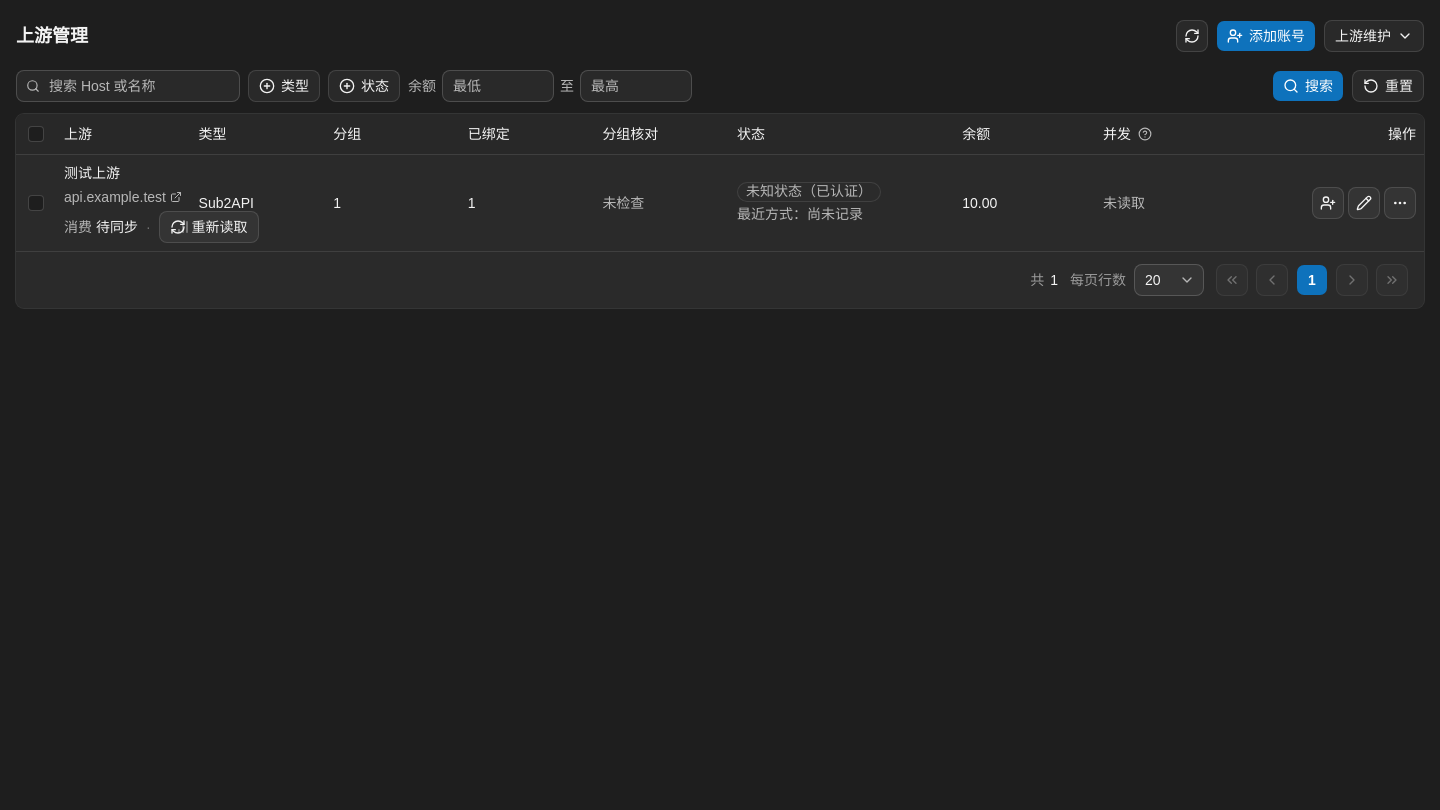
Test: 手动凭据验证等待响应时按 Escape 保留窗口，失败后允许关闭
Expected: the text "测试上游" is shown, [64, 164, 120, 180]
Click the button named "更多操作". click: (1400, 202)
box: [1384, 186, 1416, 218]
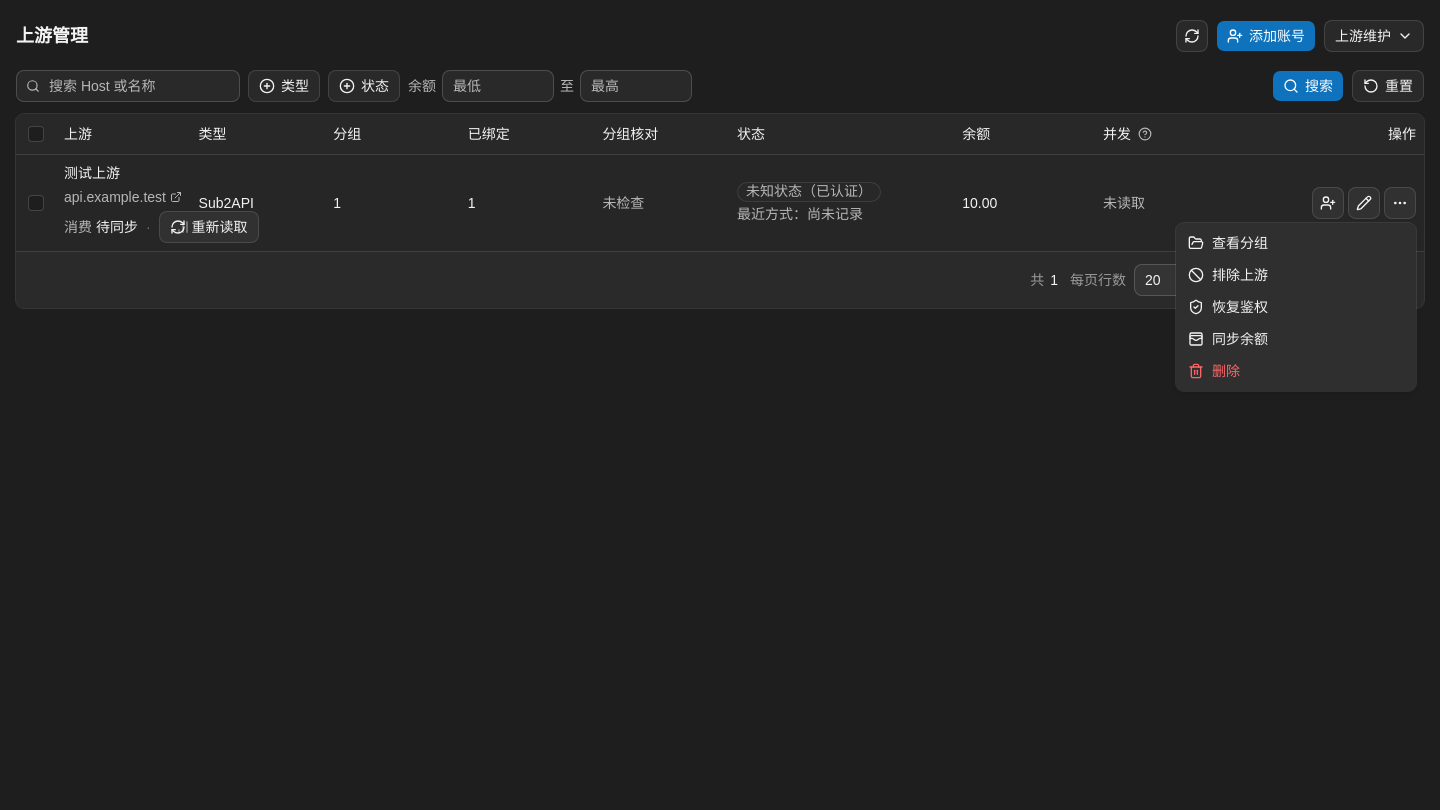
Click the menu item "恢复鉴权". click: (1228, 307)
box: [1188, 299, 1268, 315]
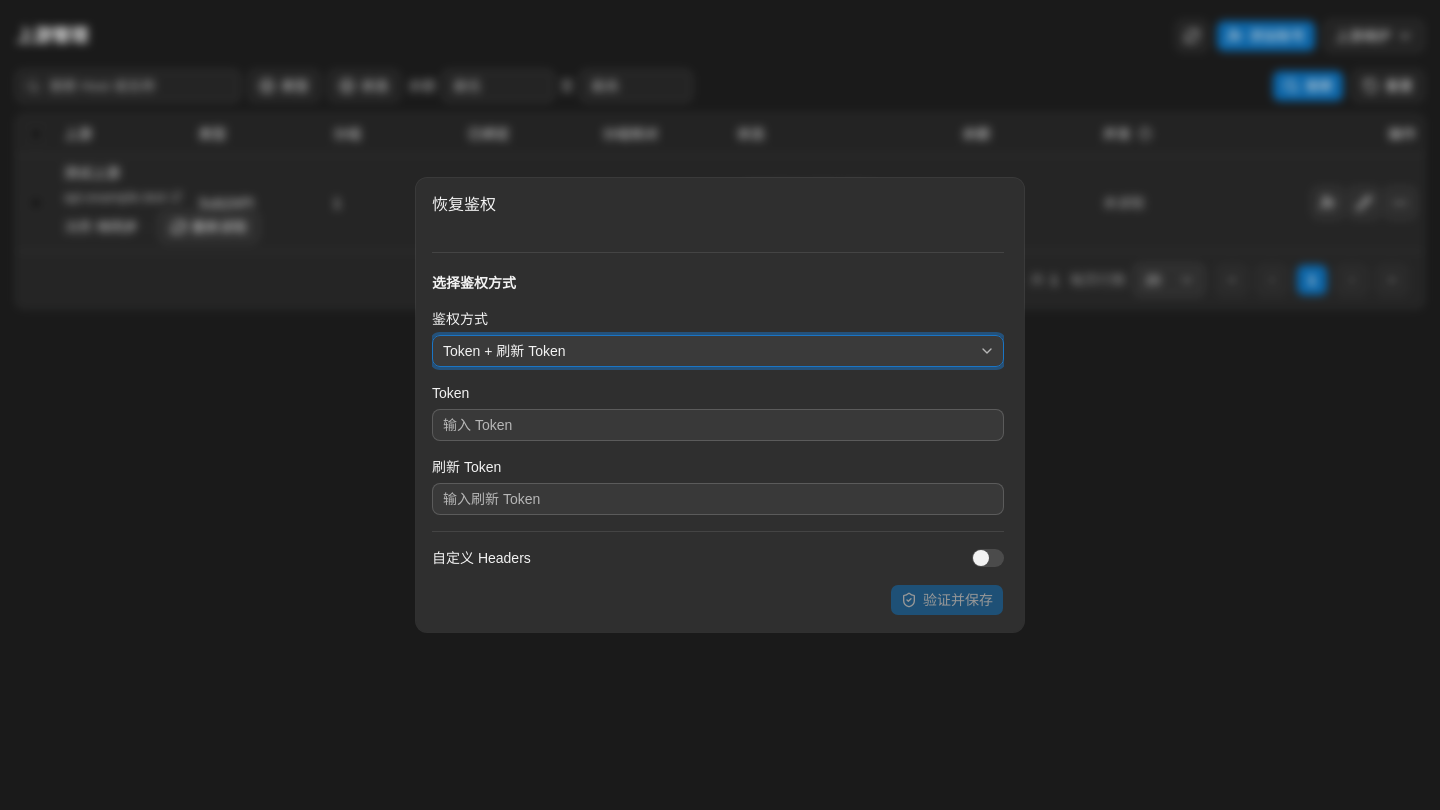
Type "test-token" into the password field labelled "Token". click: (718, 425)
box: [432, 409, 1004, 441]
Type "test-refresh-token" into the password field labelled "刷新 Token". click: (718, 499)
box: [432, 483, 1004, 515]
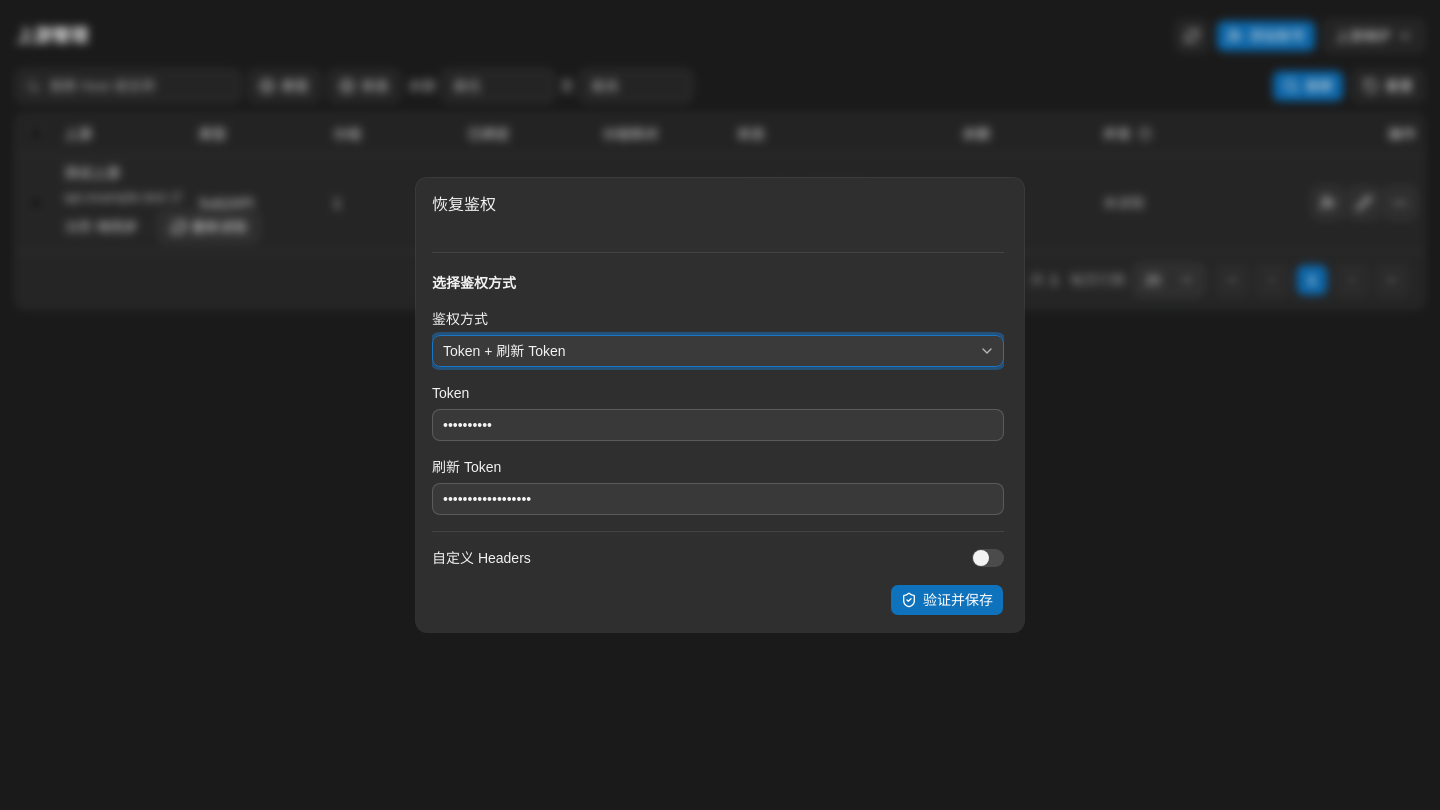
Click the button "验证并保存". click: (947, 600)
box: [890, 584, 1004, 616]
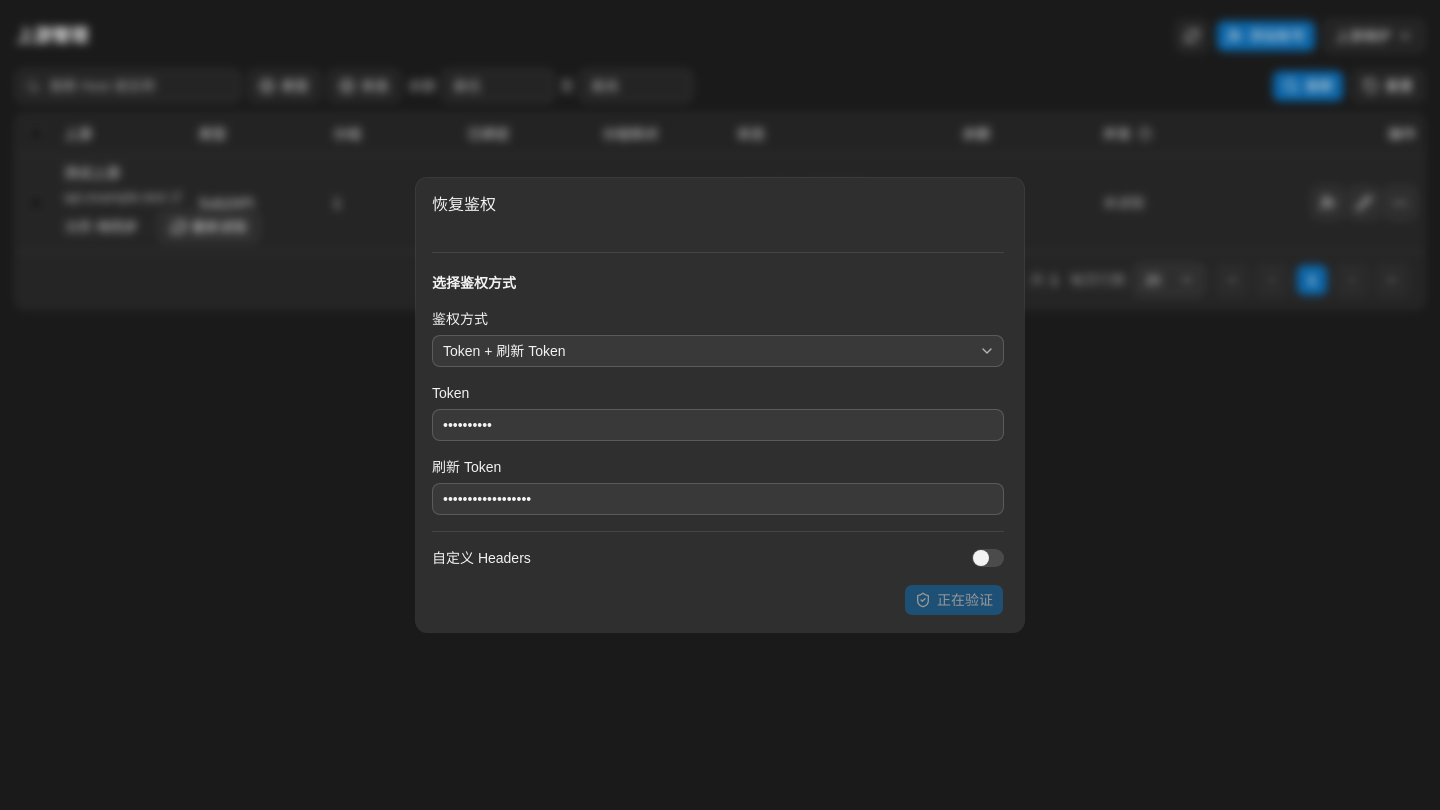
Now the button "正在验证" is shown, box [904, 584, 1004, 616]
Press Escape
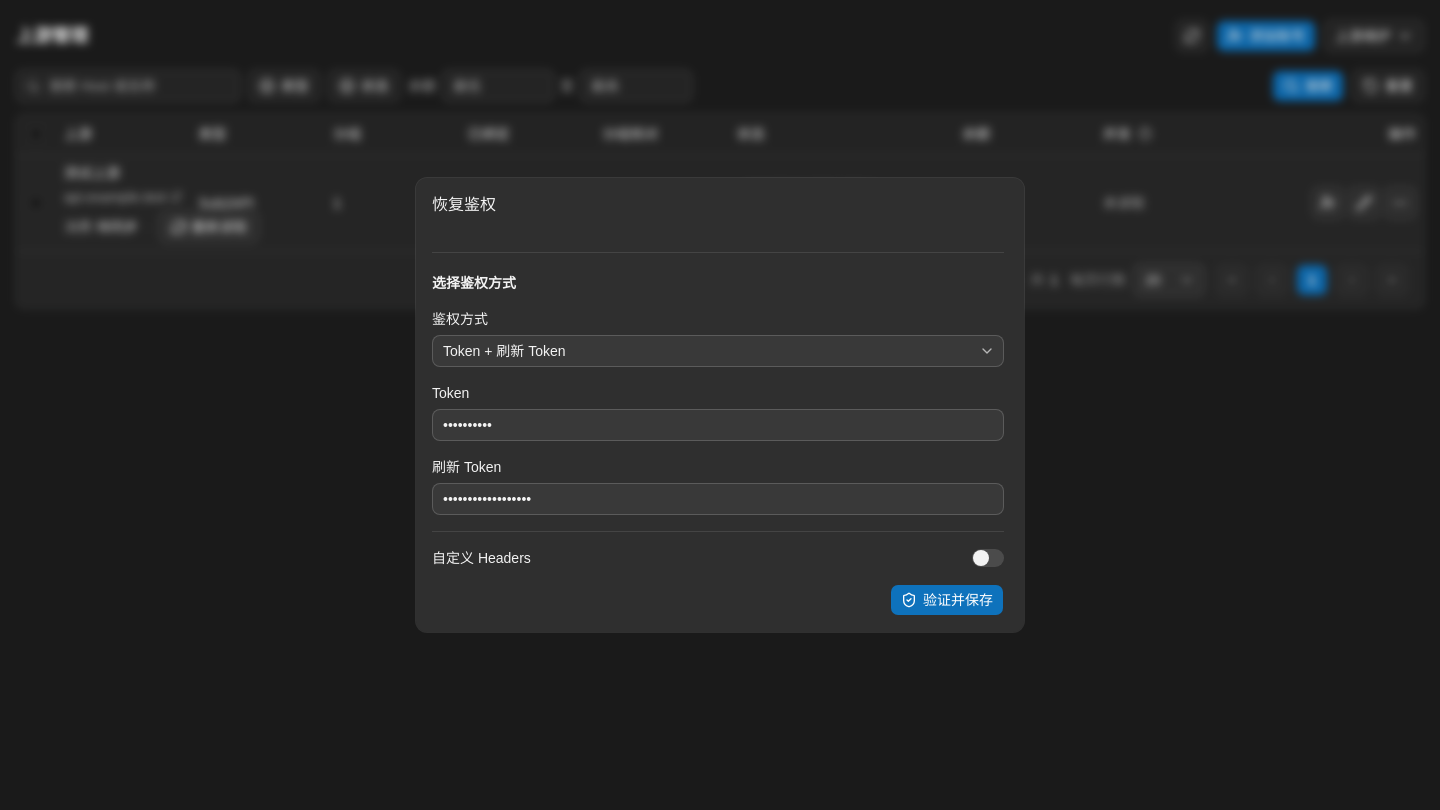
Now the dialog "恢复鉴权" is shown, box [416, 178, 1024, 632]
Now the button "验证并保存" is enabled, box [890, 584, 1004, 616]
Press Escape
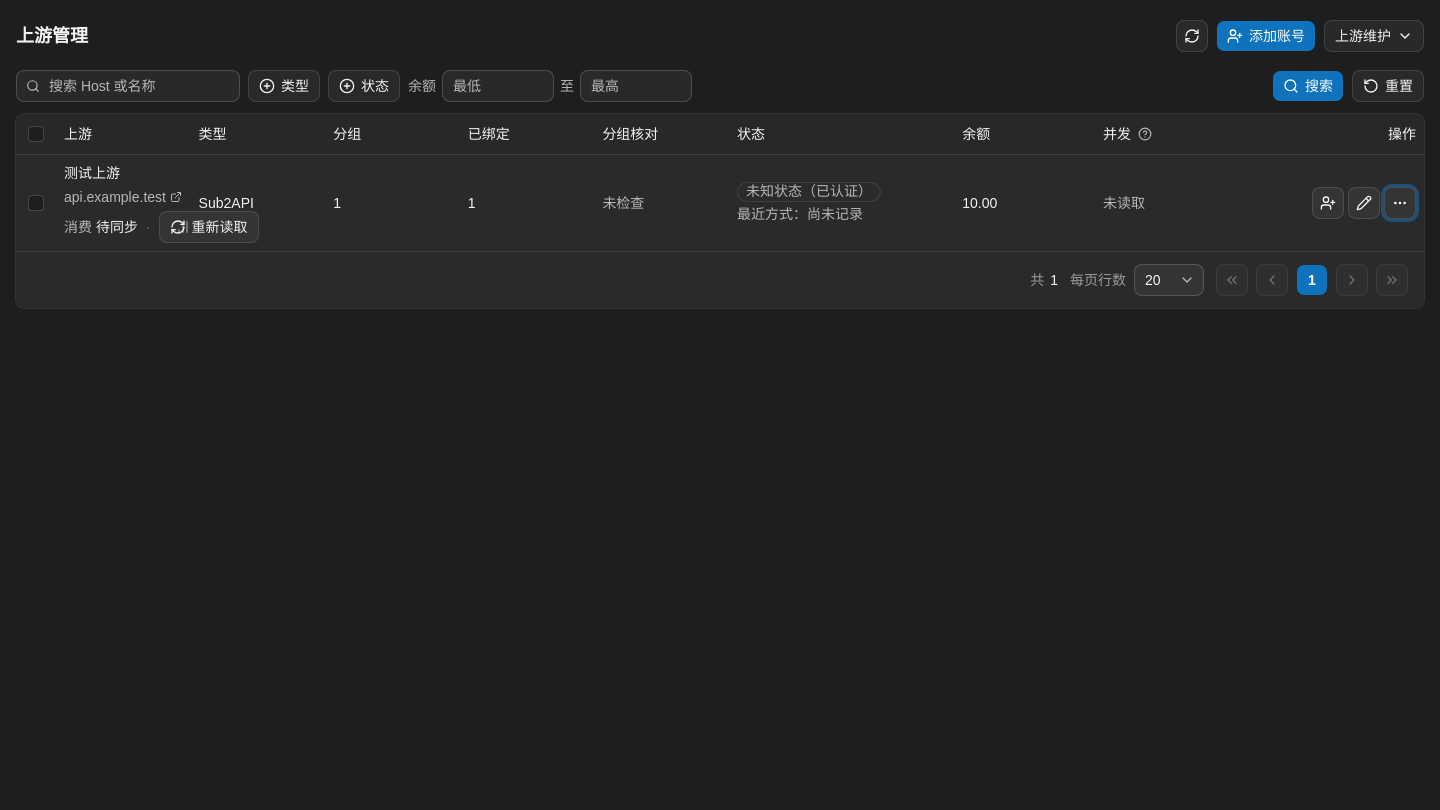
Now the heading "恢复鉴权" is gone
